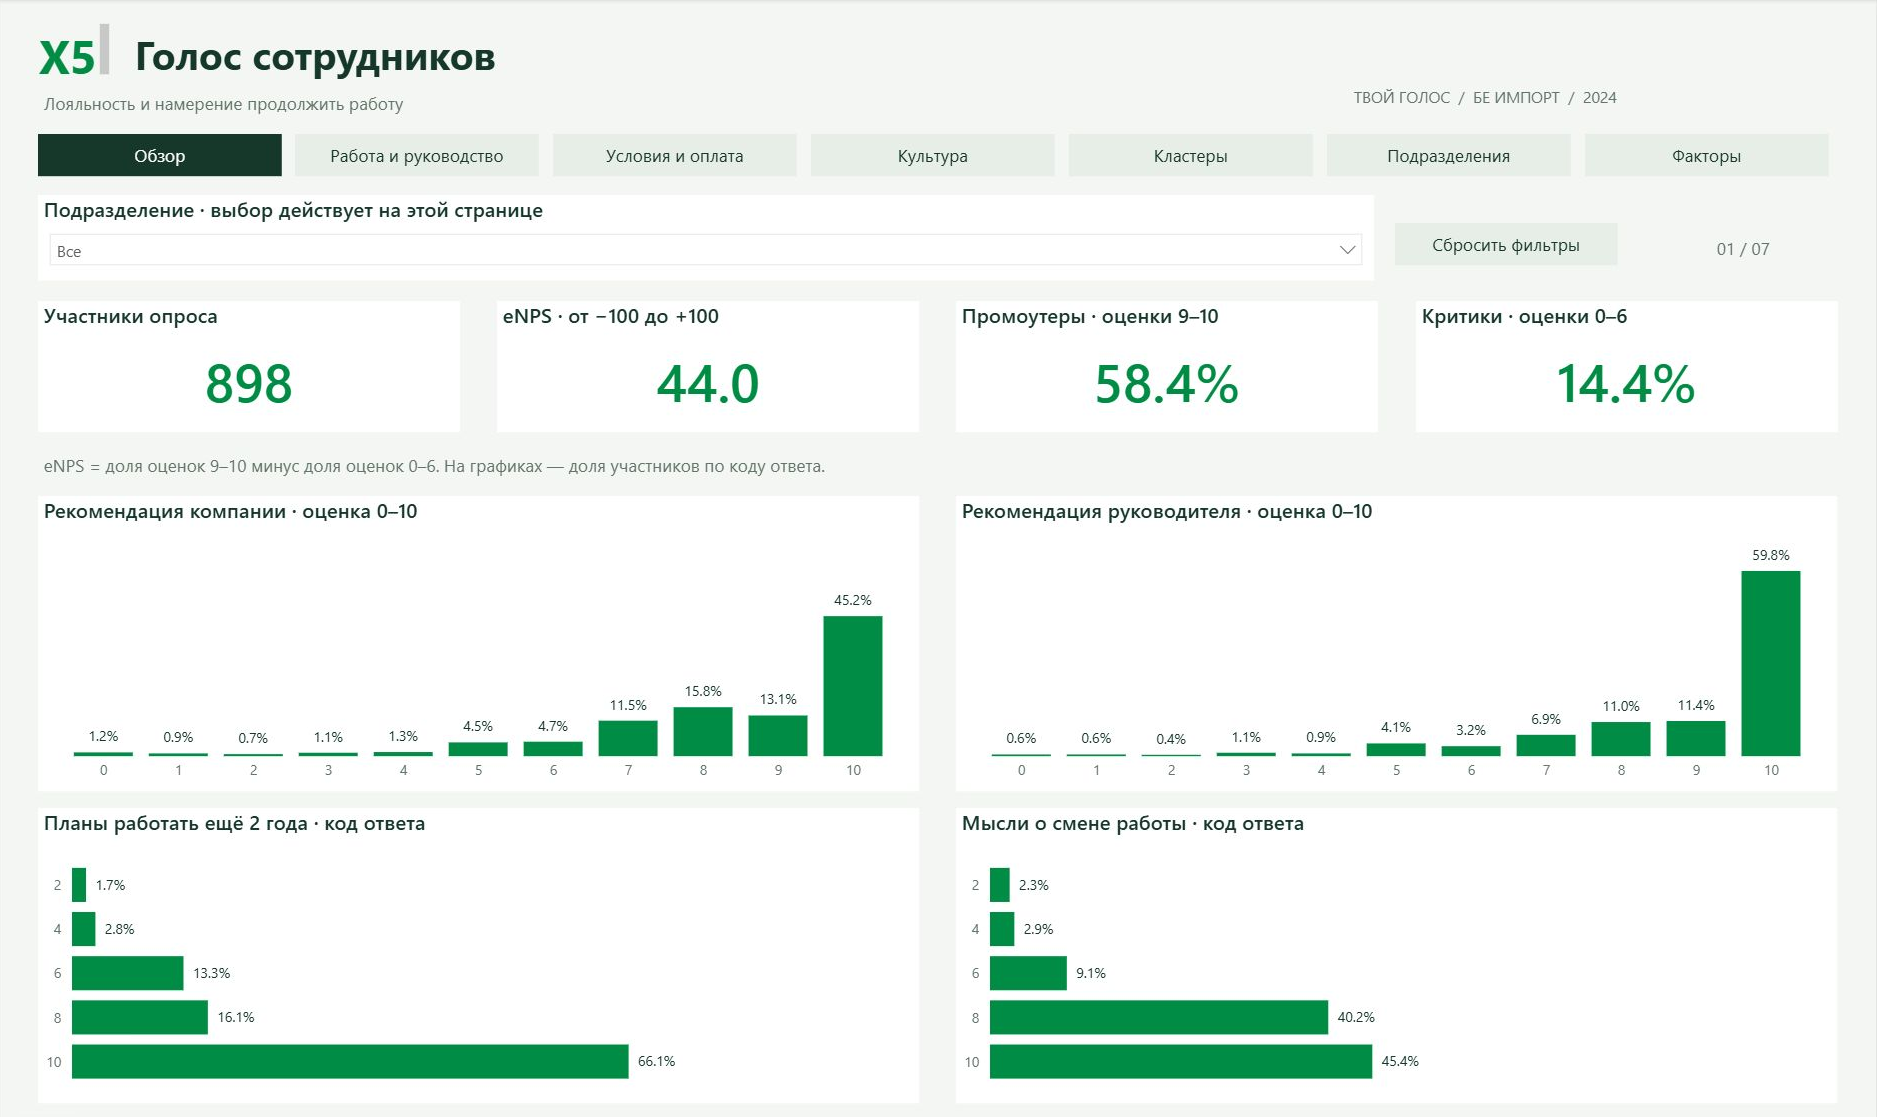

The page's visual inventory and layout, read from the dashboard file:
{"tool":"powerbi","page":{"name":"01 Обзор","canvas":[1600,1000],"ordinal":0},"visuals":[{"type":"textbox","box":[28,16,70,58],"z":1000},{"type":"textbox","box":[110,20,1280,54],"z":2000},{"type":"textbox","box":[1150,70,420,36],"z":3000},{"type":"textbox","box":[32,73,1100,40],"z":4000},{"type":"actionButton","box":[32,115,208,36],"z":5000},{"type":"actionButton","box":[252,115,208,36],"z":6000},{"type":"actionButton","box":[472,115,208,36],"z":7000},{"type":"actionButton","box":[692,115,208,36],"z":8000},{"type":"actionButton","box":[912,115,208,36],"z":9000},{"type":"actionButton","box":[1132,115,208,36],"z":10000},{"type":"actionButton","box":[1352,115,208,36],"z":11000},{"type":"slicer","title":"Подразделение · выбор действует на этой странице","fields":{"Values":["Выгрузка_X5.Подразделение_2","Выгрузка_X5.Подразделение_3","Выгрузка_X5.Подразделение_4","Выгрузка_X5.Подразделение_5"]},"box":[32,167,1140,73],"z":12000},{"type":"actionButton","box":[1190,191,190,36],"z":13000},{"type":"textbox","box":[1460,197,100,35],"z":14000},{"type":"textbox","box":[32,958,1480,34],"z":15000},{"type":"card","title":"Участники опроса","fields":{"Values":["Вопросы из кластеризации.Всего респондентов"]},"box":[32,258,360,112],"z":16000},{"type":"card","title":"eNPS · от −100 до +100","fields":{"Values":["Вопросы из кластеризации.eNPS, пункты"]},"box":[424,258,360,112],"z":17000},{"type":"card","title":"Промоутеры · оценки 9–10","fields":{"Values":["Вопросы из кластеризации.Доля промоутеров"]},"box":[816,258,360,112],"z":18000},{"type":"card","title":"Критики · оценки 0–6","fields":{"Values":["Вопросы из кластеризации.Доля критиков"]},"box":[1208,258,360,112],"z":19000},{"type":"textbox","box":[32,382,1510,40],"z":20000},{"type":"clusteredColumnChart","title":"Рекомендация компании · оценка 0–10","fields":{"Category":["Выгрузка_X5.Готовы ли Вы рекомендовать Вашу компанию друзьям в качестве потенциального места работы?"],"Y":["CountNonNull(Выгрузка_X5.ID)"]},"box":[32,424,752,252],"z":21000},{"type":"clusteredColumnChart","title":"Рекомендация руководителя · оценка 0–10","fields":{"Category":["Выгрузка_X5.Готовы ли Вы рекомендовать своим друзьям работать с Вашим непосредственным руководителем?"],"Y":["CountNonNull(Выгрузка_X5.ID)"]},"box":[816,424,752,252],"z":22000},{"type":"barChart","title":"Планы работать ещё 2 года · код ответа","fields":{"Category":["Выгрузка_X5.Планируете ли Вы продолжать работу в компании в ближайшие 2 года?"],"Y":["CountNonNull(Выгрузка_X5.ID)"]},"box":[32,690,752,252],"z":23000},{"type":"barChart","title":"Мысли о смене работы · код ответа","fields":{"Category":["Выгрузка_X5.Часто ли Вы задумываетесь о смене работы?"],"Y":["CountNonNull(Выгрузка_X5.ID)"]},"box":[816,690,752,252],"z":24000}]}

Visuals, with their boxes on the page's 1600x1000 design canvas (x1, y1, x2, y2). These are canvas units, not pixel positions in the 1877x1117 screenshot, which may show the page scaled, cropped or inside an application window:
textbox: BBox(28, 16, 98, 74)
textbox: BBox(110, 20, 1390, 74)
textbox: BBox(1150, 70, 1570, 106)
textbox: BBox(32, 73, 1132, 113)
actionButton: BBox(32, 115, 240, 151)
actionButton: BBox(252, 115, 460, 151)
actionButton: BBox(472, 115, 680, 151)
actionButton: BBox(692, 115, 900, 151)
actionButton: BBox(912, 115, 1120, 151)
actionButton: BBox(1132, 115, 1340, 151)
actionButton: BBox(1352, 115, 1560, 151)
"Подразделение · выбор действует на этой странице" slicer: BBox(32, 167, 1172, 240)
actionButton: BBox(1190, 191, 1380, 227)
textbox: BBox(1460, 197, 1560, 232)
textbox: BBox(32, 958, 1512, 992)
"Участники опроса" card: BBox(32, 258, 392, 370)
"eNPS · от −100 до +100" card: BBox(424, 258, 784, 370)
"Промоутеры · оценки 9–10" card: BBox(816, 258, 1176, 370)
"Критики · оценки 0–6" card: BBox(1208, 258, 1568, 370)
textbox: BBox(32, 382, 1542, 422)
"Рекомендация компании · оценка 0–10" clusteredColumnChart: BBox(32, 424, 784, 676)
"Рекомендация руководителя · оценка 0–10" clusteredColumnChart: BBox(816, 424, 1568, 676)
"Планы работать ещё 2 года · код ответа" barChart: BBox(32, 690, 784, 942)
"Мысли о смене работы · код ответа" barChart: BBox(816, 690, 1568, 942)
